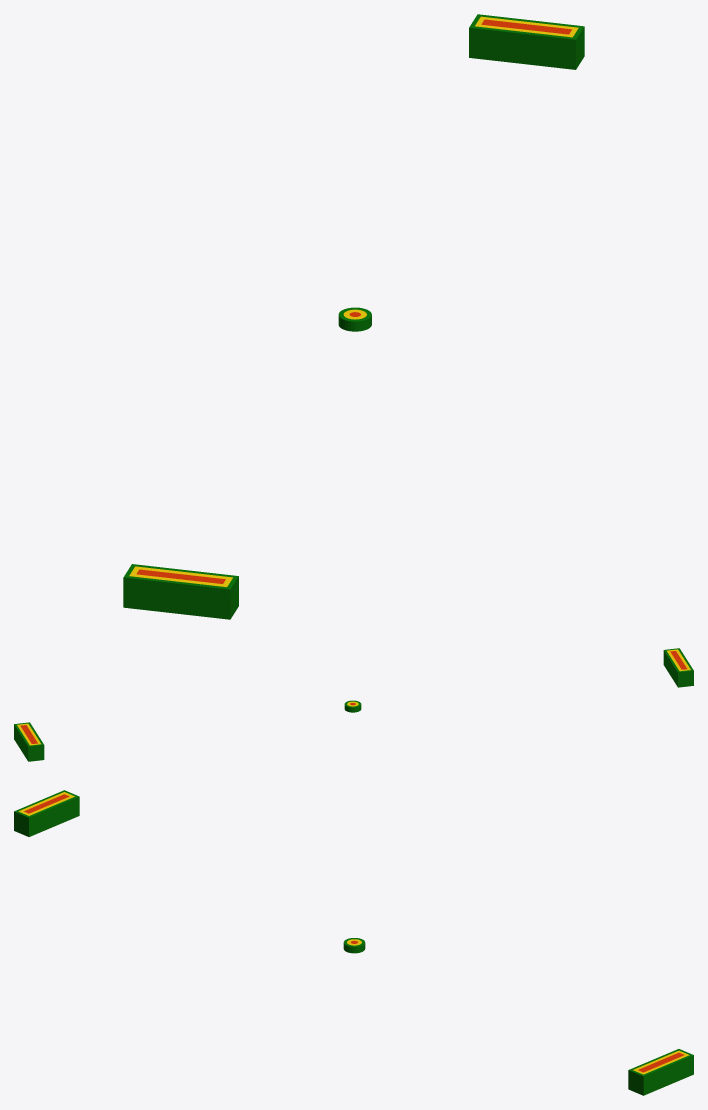
The model's file is JumpPads.fbx.
3 views of the same model, one above another, from view 1: azimuth 30°, elevation 25°; view 2: azimuth 150°, elevation 25°; view 3: azimuth 270°, elevation 25° (orthographic). The views are drawn at different scales.
Parts seen in each view (by area): view 1: J2, J3; view 2: J2, J3; view 3: J2, J3.
Part boxes in pixels (<box>): J2: <box>123,564,238,619</box>; J3: <box>469,14,584,69</box>; J2: <box>663,648,693,687</box>; J3: <box>14,722,44,761</box>; J2: <box>14,790,79,836</box>; J3: <box>628,1049,693,1095</box>.
Size of what is drawn, in the model's own units: 948 by 30 by 951.
